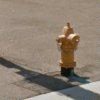Hydrant: (53, 16, 78, 83)
